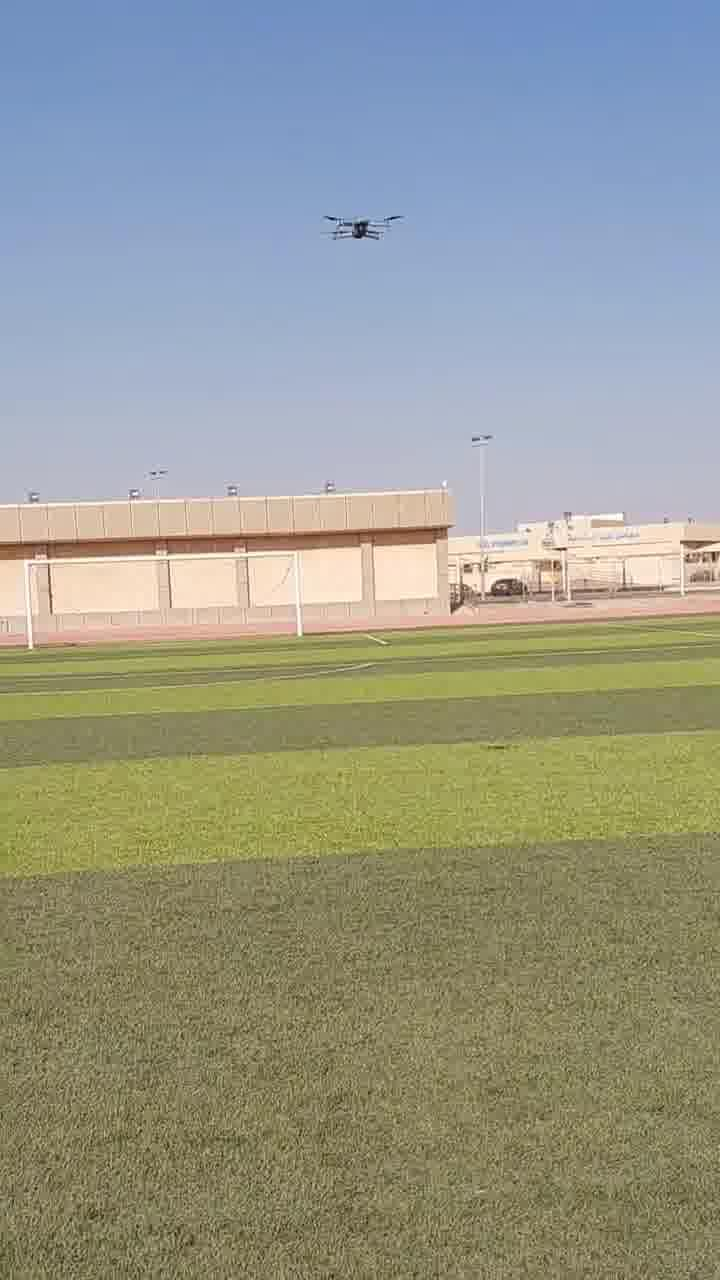drone: (313, 199, 394, 259)
